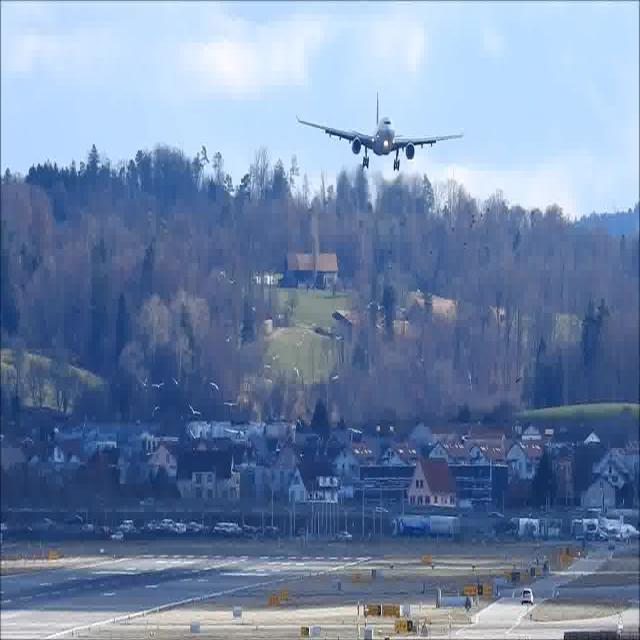bird: (210, 379, 222, 395), (187, 402, 200, 416), (293, 364, 301, 381), (139, 373, 148, 387), (151, 380, 164, 389), (223, 399, 236, 408), (170, 376, 181, 386), (330, 372, 339, 383), (224, 333, 233, 344), (271, 353, 278, 364), (377, 301, 384, 312), (251, 304, 258, 314)
